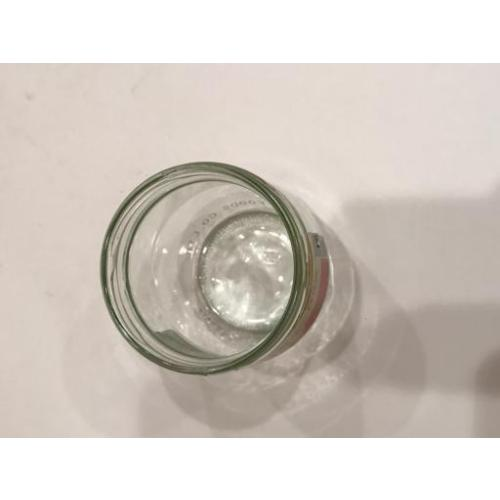glass: (101, 160, 328, 378)
